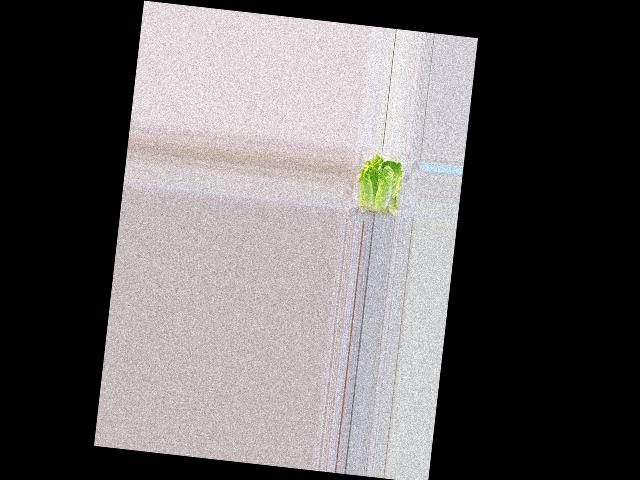lettuce: (355, 152, 404, 213)
